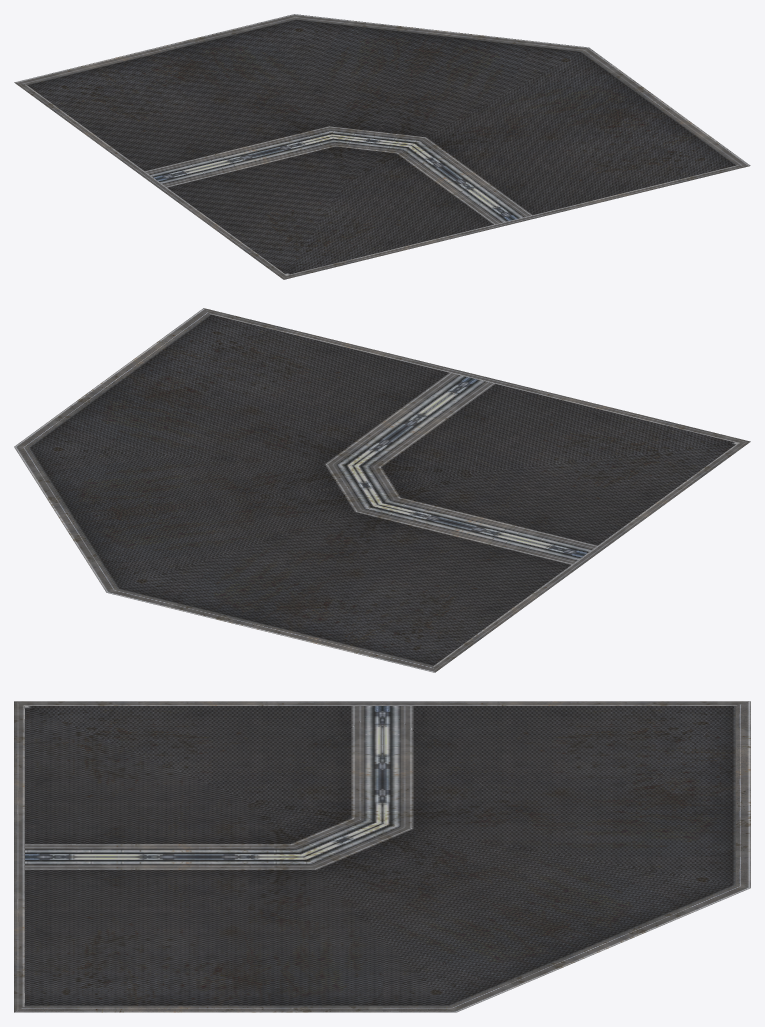
Rendered from Floor_A_5mts_10.fbx.
3 views of the same model, one above another, from view 1: azimuth 30°, elevation 25°; view 2: azimuth 150°, elevation 25°; view 3: azimuth 270°, elevation 25° (orthographic). The views are drawn at different scales.
Visible parts, largest first — view 1: Floor_A_5mts_10; view 2: Floor_A_5mts_10; view 3: Floor_A_5mts_10.
Part boxes in pixels (x1,y1,x2,y2): Floor_A_5mts_10: [14, 14, 750, 279]; Floor_A_5mts_10: [14, 308, 750, 672]; Floor_A_5mts_10: [14, 701, 750, 1012].
Bounding box in the file's own units: 500 × 0.000139 × 500.
1 material, 1 textured.
